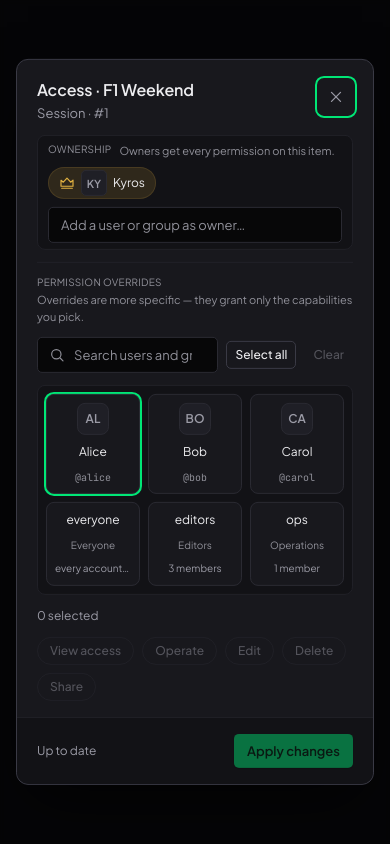
AccessPanel › filters the catalog by username and display name as you type
The image size is (390, 844).
Expected: the option "BO Bob @bob" is shown, top-left (148, 394), bottom-right (242, 494)
Step 1. Type "ali" into the dropdown labelled "Search users and groups" → coordinates (128, 355), box top-left (37, 337), bottom-right (218, 373)
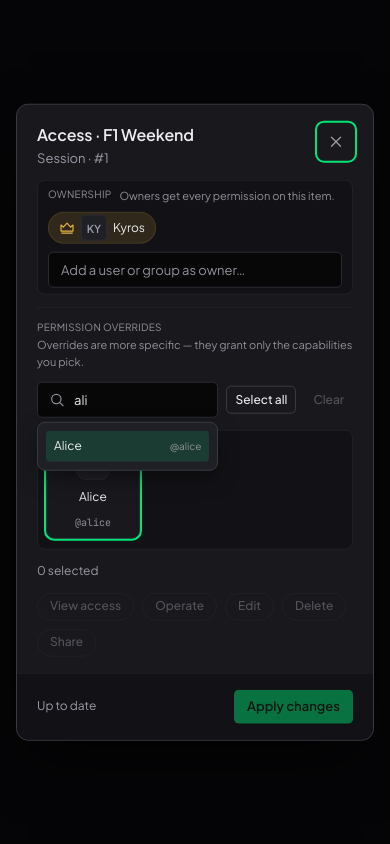
Expected: the option "AL Alice @alice" is shown, top-left (46, 439), bottom-right (140, 539)
Now the option "Bob" is gone
Now the option "Carol" is gone
